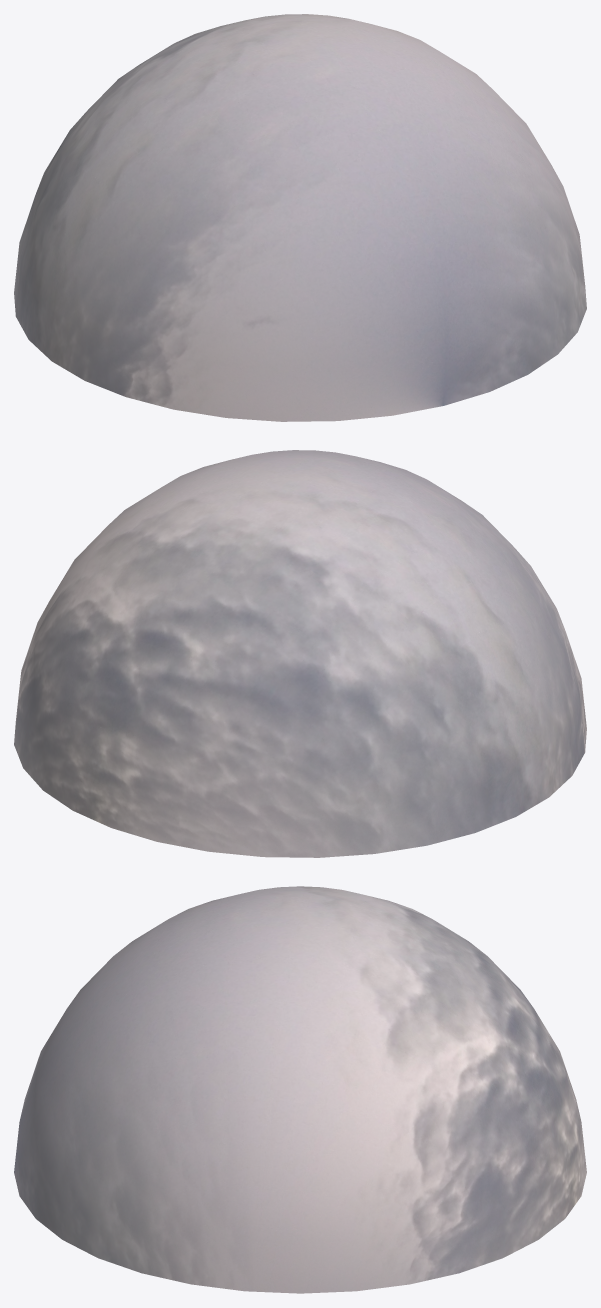
File: sky.glb
3 views of the same model, one above another, from view 1: azimuth 30°, elevation 25°; view 2: azimuth 150°, elevation 25°; view 3: azimuth 270°, elevation 25° (orthographic).
Parts seen in each view (by area): view 1: 球; view 2: 球; view 3: 球.
Part boxes in pixels (x1,y1,x2,y2): 球: (14,14,586,421); 球: (14,450,586,857); 球: (14,886,586,1293).
Bounding box in the file's own units: 20 × 10 × 20.
1 material, 1 textured.
